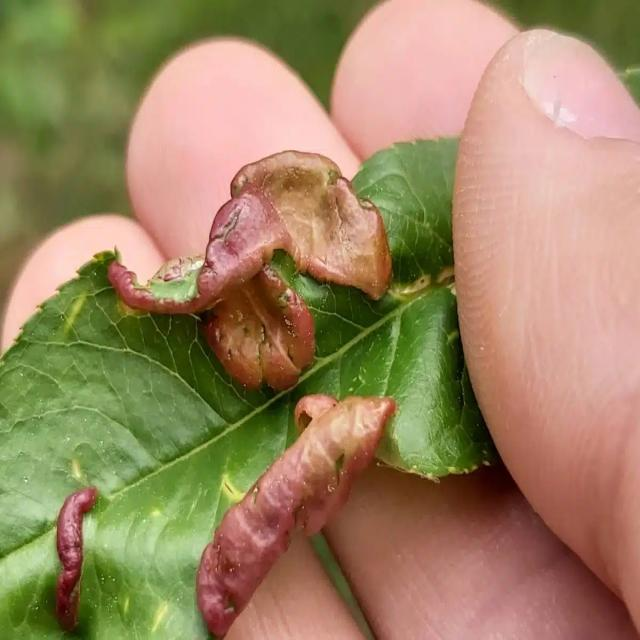peach_leaf_curl: (104, 118, 397, 636)
